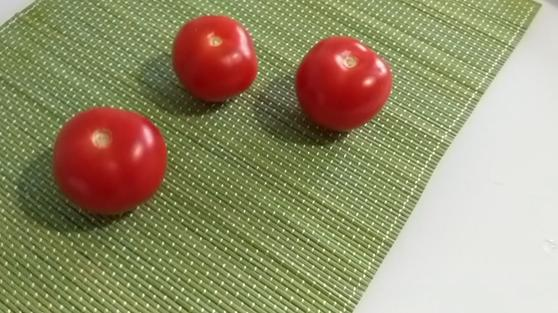tomato: (53, 106, 168, 219), (293, 34, 396, 137), (171, 13, 257, 106)
